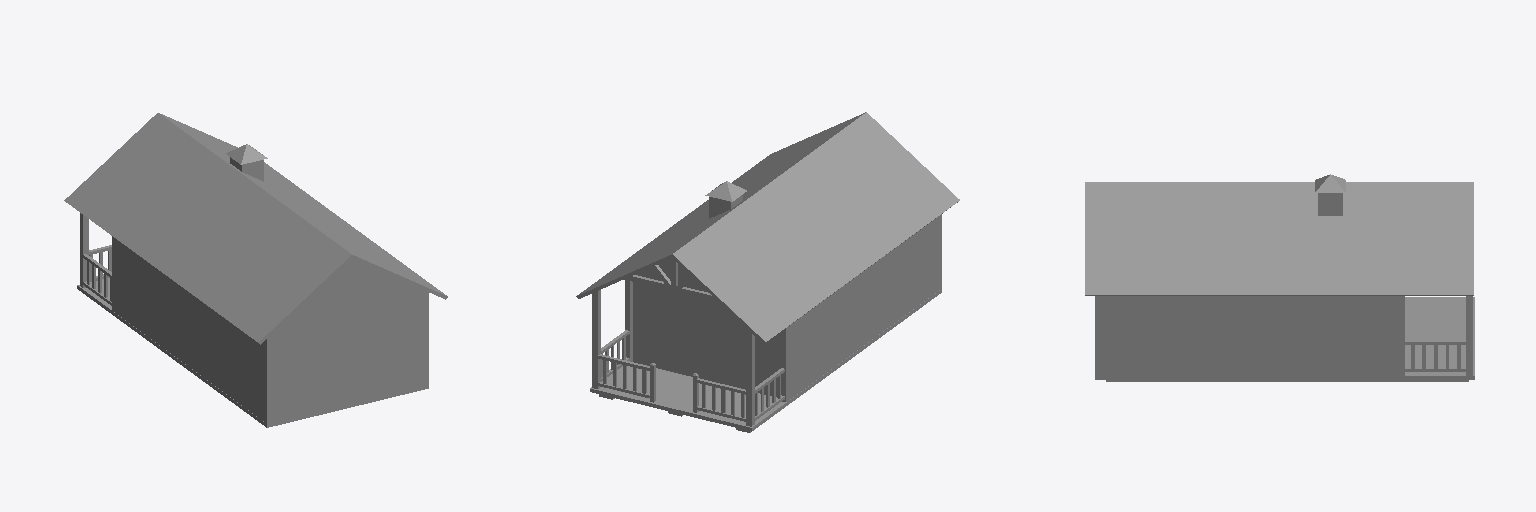
The model's file is house.obj.
3 renders of one model, left to right at view 1: azimuth 30°, elevation 25°; view 2: azimuth 150°, elevation 25°; view 3: azimuth 270°, elevation 25°, orthographic.
Parts seen in each view (by area): view 1: Cottage_House; view 2: Cottage_House; view 3: Cottage_House.
Boxes of the visible parts, <box> form: Cottage_House: <box>64,113,447,427</box>; Cottage_House: <box>576,112,959,432</box>; Cottage_House: <box>1085,174,1474,381</box>.
Size of the model in its own units: 4.63 by 4.18 by 8.23.